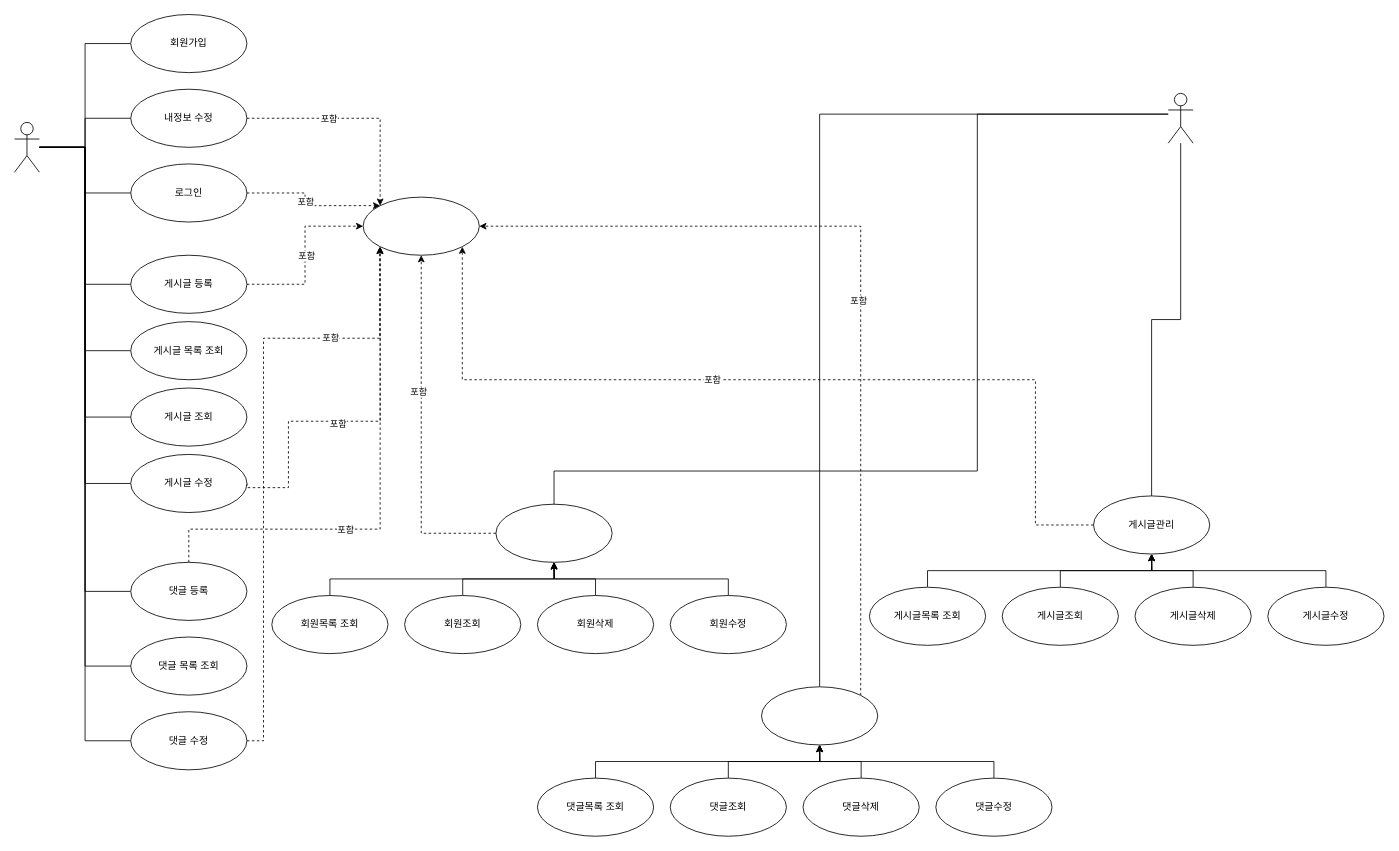
This 1399x851 diagram has some shape labels left out. The shapes that lost their labels are listed below. From the top down, each one's centre as x and y in pixels, then its label:
the point at 1180,118: 관리자
the point at 26,147: 회원
the point at 420,225: 사용자인증
the point at 553,532: 회원관리
the point at 819,715: 댓글관리
